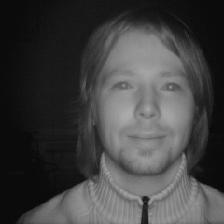happy: (63, 4, 213, 188)
